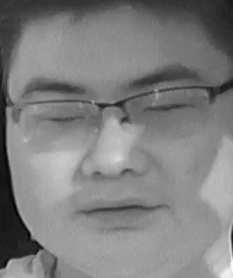blink: (141, 98, 185, 115), (49, 112, 86, 129)
glass: (14, 94, 101, 149), (119, 86, 209, 137)
mouth: (78, 195, 161, 230)
